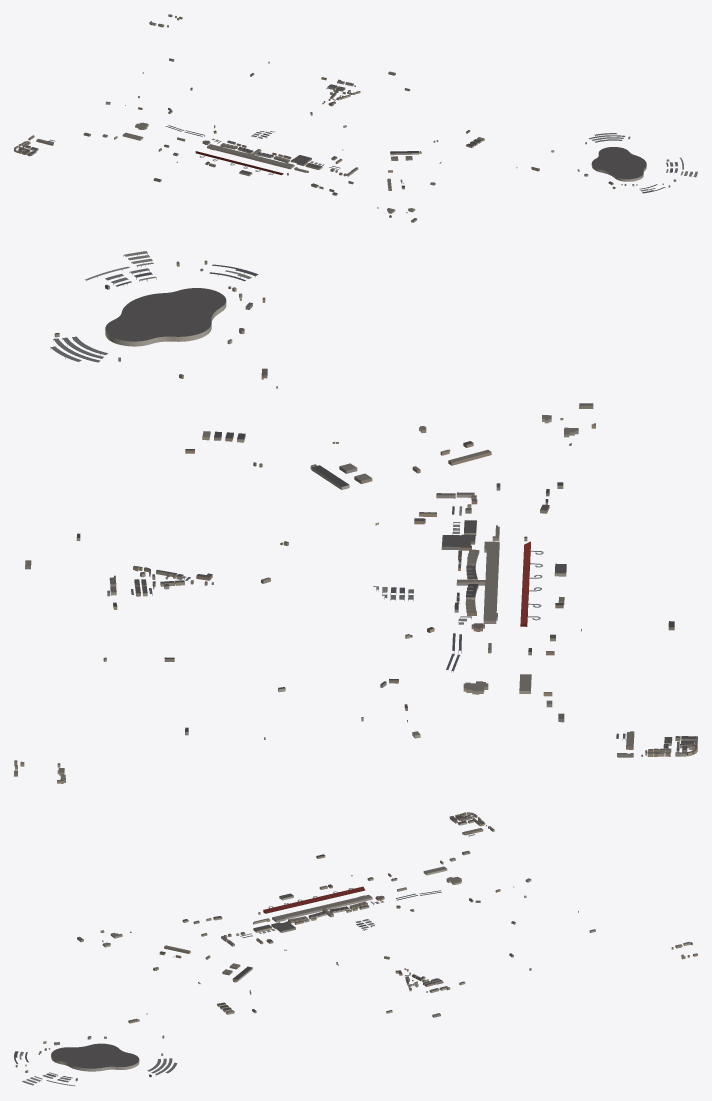
The model's file is scenery.glb.
3 views of the same model, one above another, from view 1: azimuth 30°, elevation 25°; view 2: azimuth 150°, elevation 25°; view 3: azimuth 270°, elevation 25° (orthographic). The views are drawn at different scales.
Parts seen in each view (by area): view 1: chunk_17_17, chunk_14_15, chunk_15_14, chunk_12_13, chunk_14_14, chunk_13_14; view 2: chunk_17_17, chunk_14_15, chunk_15_14, chunk_12_13, chunk_14_14, chunk_13_14; view 3: chunk_17_17, chunk_14_15, chunk_12_13, chunk_15_14.
Boxes of the visible parts, left/top/right/bottom form: chunk_17_17: left=591, top=147, right=697, bottom=193; chunk_14_15: left=195, top=144, right=358, bottom=175; chunk_15_14: left=310, top=80, right=360, bottom=115; chunk_12_13: left=14, top=132, right=90, bottom=156; chunk_14_14: left=212, top=125, right=275, bottom=154; chunk_13_14: left=114, top=125, right=210, bottom=162; chunk_17_17: left=85, top=251, right=265, bottom=346; chunk_14_15: left=414, top=493, right=543, bottom=626; chunk_15_14: left=109, top=565, right=270, bottom=596; chunk_12_13: left=558, top=713, right=697, bottom=757; chunk_14_14: left=373, top=584, right=478, bottom=638; chunk_13_14: left=446, top=616, right=581, bottom=696; chunk_17_17: left=14, top=1041, right=139, bottom=1086; chunk_14_15: left=227, top=886, right=372, bottom=946; chunk_12_13: left=449, top=812, right=494, bottom=855; chunk_15_14: left=384, top=956, right=448, bottom=992.
Bounding box in the file's own units: 2364 × 16.28 × 2504.
